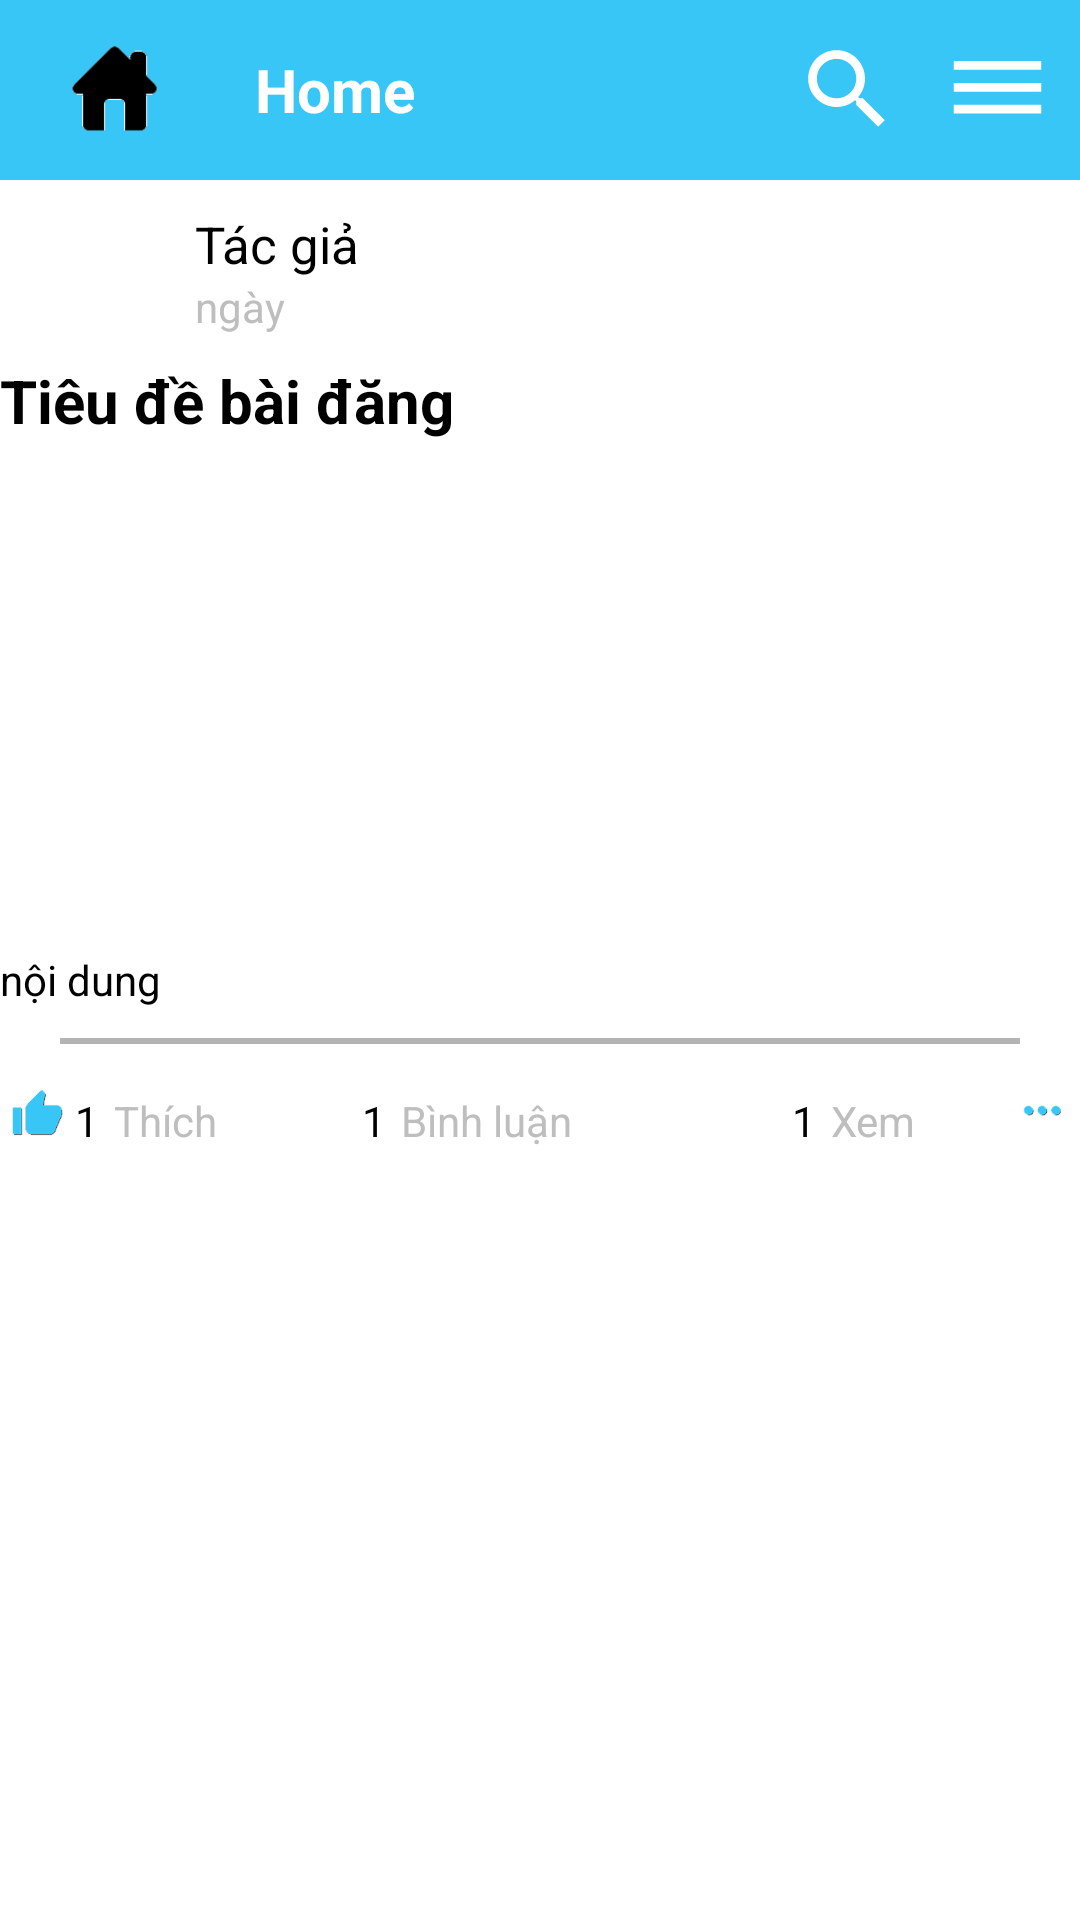

Locate icon controls on the screen. Image size 1080 x 1920, boxes as BBox(x1, y1, x2, y2).
like: BBox(12, 1090, 63, 1135)
menu: BBox(953, 61, 1042, 114)
others option: BBox(1024, 1105, 1061, 1116)
search: BBox(808, 50, 885, 127)
